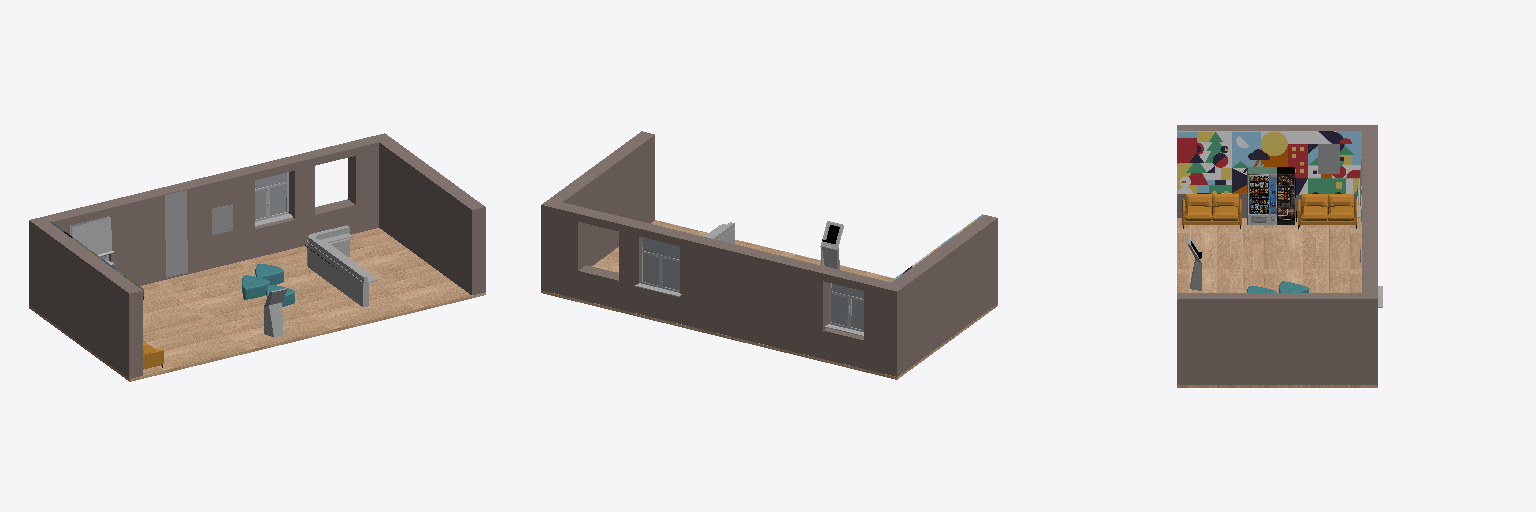
3 views of the same model, side by side, from view 1: azimuth 30°, elevation 25°; view 2: azimuth 150°, elevation 25°; view 3: azimuth 270°, elevation 25° (orthographic).
Visible parts, largest first — view 1: Group_1071, Box003, Grid, L-Ext007, Plane2584, Circle038, Object9429, Group_001, Rectangle3, Cylinder14.Cylinder10.Cylinder11.001_Cylinder14.001; view 2: Group_1071, Box003, Plane2584, Plane2585, Group_001; view 3: Group_1071, Box003, Grid.001, Box444, Box437, Grid.005, Grid.002, Grid.008.
Part boxes in pixels (x1,y1,x2,y2): Group_1071: (29,133,485,378); Box003: (29,228,485,381); Grid: (165,190,187,277); L-Ext007: (307,238,368,307); Plane2584: (255,172,292,226); Circle038: (72,217,113,256); Object9429: (308,225,367,283); Group_001: (264,288,286,336); Rectangle3: (212,204,232,235); Cylinder14.Cylinder10.Cylinder11.001_Cylinder14.001: (242,275,270,299); Group_1071: (541,131,997,376); Box003: (541,220,997,379); Plane2584: (635,237,681,296); Plane2585: (825,283,863,336); Group_001: (820,221,843,269); Group_1071: (1177,125,1377,384); Box003: (1177,218,1377,387); Grid.001: (1177,131,1361,194); Box444: (1182,193,1241,228); Box437: (1298,193,1356,228); Grid.005: (1248,174,1276,224); Grid.002: (1277,175,1294,224); Grid.008: (1318,144,1339,173).
Size of the model in its own units: 1.31 by 0.3143 by 0.6579.
32 materials, 4 textured.